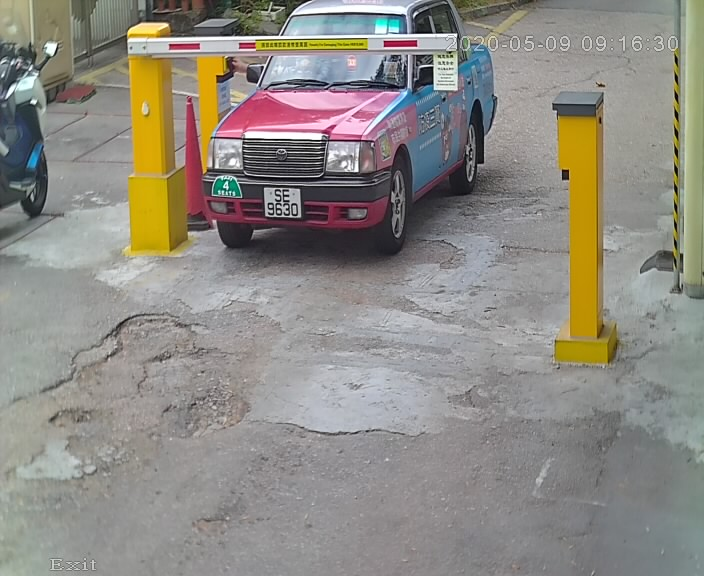taxi: (177, 2, 518, 289)
taxi_mark: (204, 165, 254, 208)
